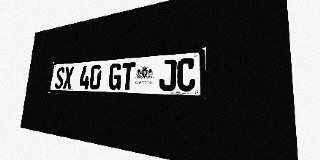0: (89, 64, 102, 90)
4: (79, 65, 91, 89)
C: (176, 58, 196, 91)
G: (108, 63, 122, 90)
J: (159, 59, 177, 91)
S: (54, 67, 65, 89)
T: (120, 62, 136, 90)
X: (63, 66, 74, 89)
